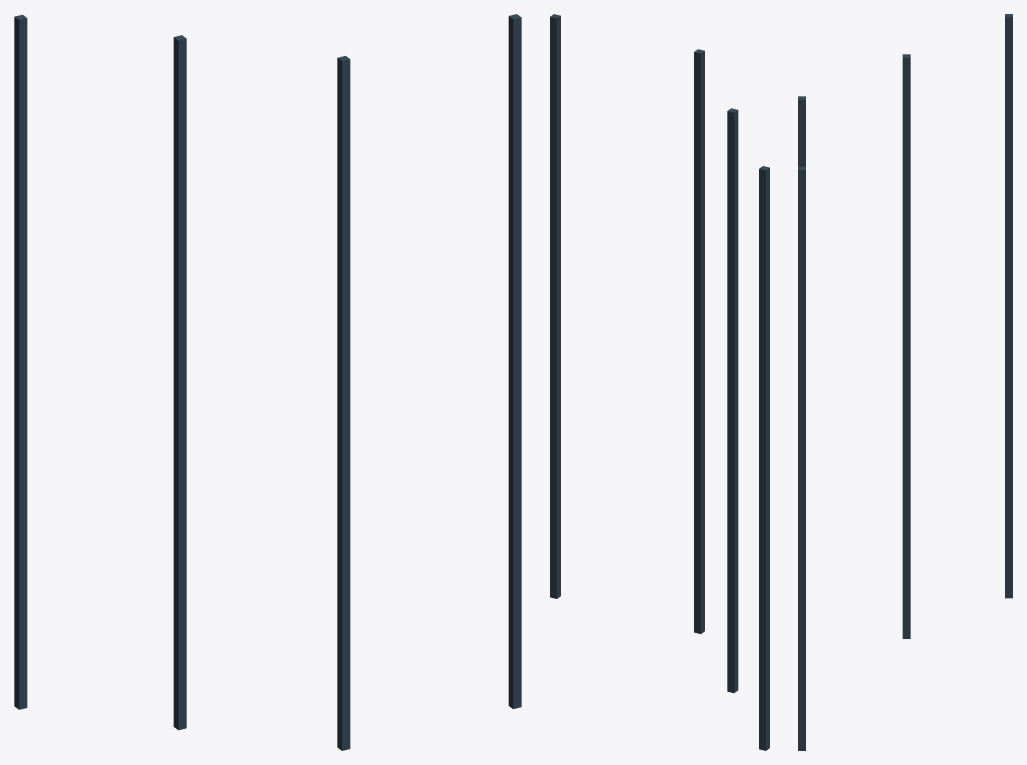
The model's file is v02-transit-world-01-01-08.glb.
The picture shows the model from 3 angles, left to right: view 1: azimuth 30°, elevation 25°; view 2: azimuth 150°, elevation 25°; view 3: azimuth 270°, elevation 25°; orthographic projection. The views are drawn at different scales.
Parts seen in each view (by area): view 1: v02-transit-world-01-01-08; view 2: v02-transit-world-01-01-08; view 3: v02-transit-world-01-01-08.
Part boxes in pixels (x1,y1,x2,y2): v02-transit-world-01-01-08: (14,14,521,750); v02-transit-world-01-01-08: (550,14,769,750); v02-transit-world-01-01-08: (798,14,1012,750).
Bounding box in the file's own units: 55.41 × 96.25 × 32.28.
